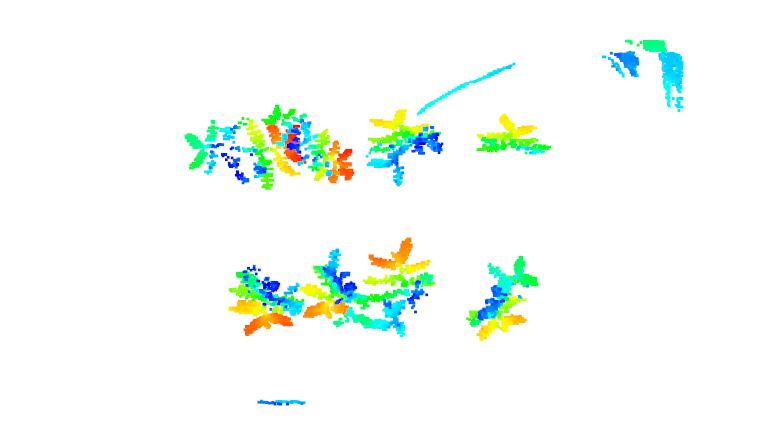chickpea: (186, 115, 304, 189), (354, 237, 434, 333), (260, 105, 355, 184), (470, 256, 539, 339), (371, 113, 447, 184), (232, 263, 304, 334), (474, 114, 556, 165), (306, 249, 356, 330)
